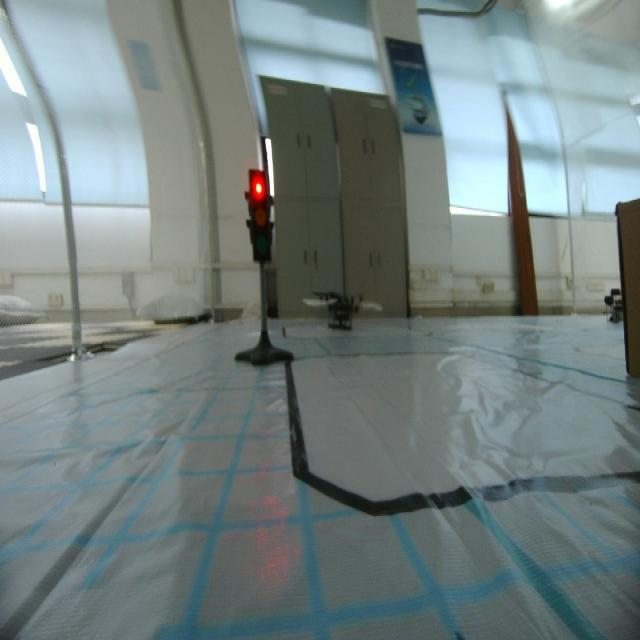red: (244, 164, 276, 267)
